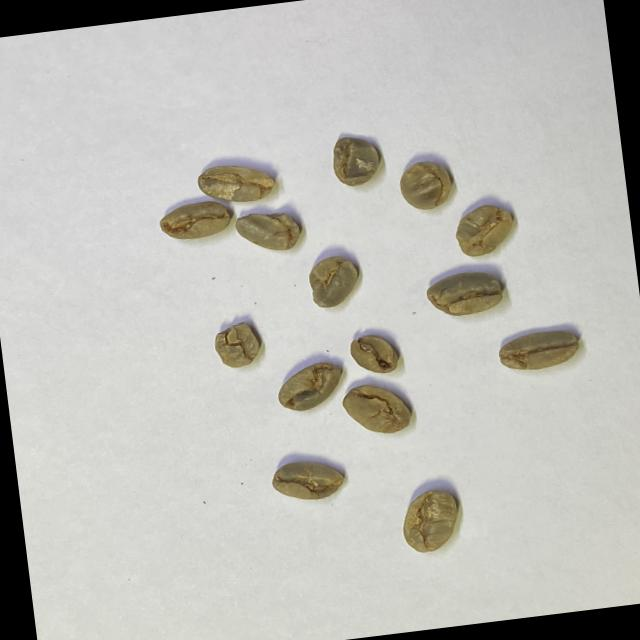bad: (396, 485, 464, 556), (338, 378, 414, 441), (494, 326, 582, 376), (423, 267, 506, 320), (273, 357, 348, 415), (268, 453, 348, 507), (194, 157, 278, 208), (450, 200, 517, 260), (304, 250, 363, 312), (233, 205, 303, 257), (396, 156, 456, 214), (156, 198, 233, 243), (328, 130, 384, 190), (212, 318, 264, 372), (347, 328, 402, 378)
